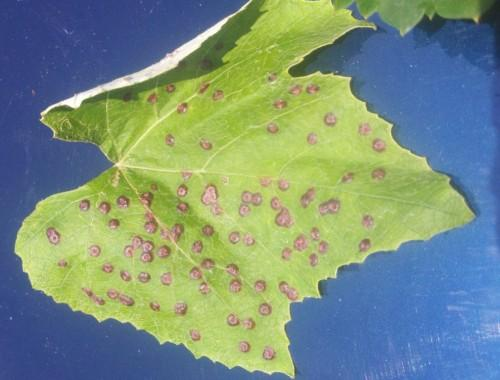grape leaf: (18, 3, 481, 378)
